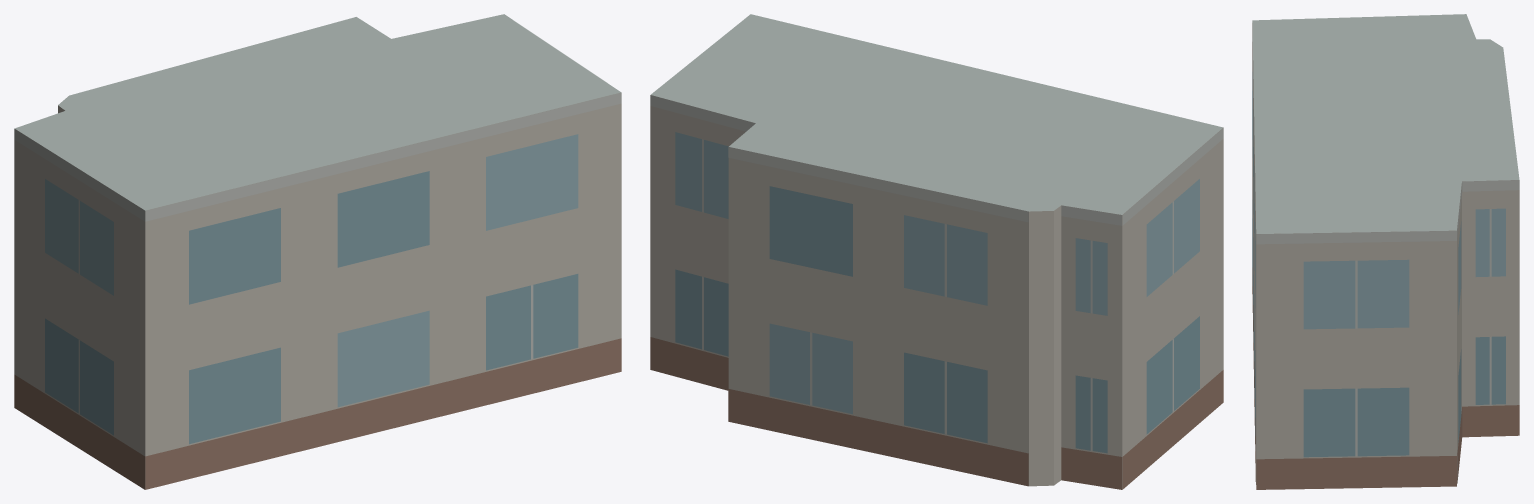
The model's file is survey-upis-32965484.glb.
3 renders of one model, left to right at view 1: azimuth 30°, elevation 25°; view 2: azimuth 150°, elevation 25°; view 3: azimuth 270°, elevation 25°, orthographic. The views are drawn at different scales.
Visible parts, largest first — view 1: survey-upis-32965484.tmp; view 2: survey-upis-32965484.tmp; view 3: survey-upis-32965484.tmp.
Part boxes in pixels (x1,y1,x2,y2): survey-upis-32965484.tmp: (14,14,621,489); survey-upis-32965484.tmp: (650,14,1223,489); survey-upis-32965484.tmp: (1252,14,1519,489).
Bounding box in the file's own units: 11.27 × 6.1 × 5.79.
